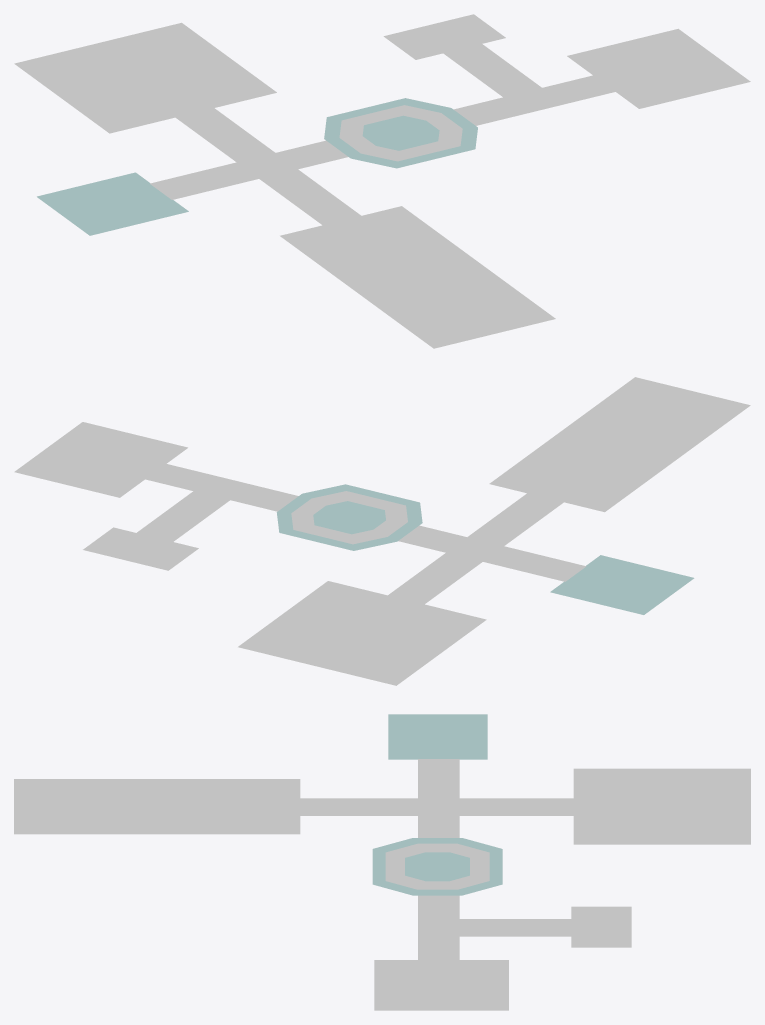
The model's file is tutorial_floors.fbx.
The picture shows the model from 3 angles, top to bottom: view 1: azimuth 30°, elevation 25°; view 2: azimuth 150°, elevation 25°; view 3: azimuth 270°, elevation 25°; orthographic projection. The views are drawn at different scales.
Visible parts, largest first — view 1: glide_room_floor, grapple_room_floor, portal_room_floor, main_floor, picture_room_floor, hallway_floor3, hallway_floor4, bedroom_floor, hallway_floor1, hallway_floor2, hallway_floor; view 2: glide_room_floor, grapple_room_floor, portal_room_floor, main_floor, picture_room_floor, hallway_floor3, hallway_floor4, bedroom_floor, hallway_floor1, hallway_floor2, hallway_floor; view 3: glide_room_floor, grapple_room_floor, portal_room_floor, main_floor, picture_room_floor, hallway_floor3, hallway_floor4, bedroom_floor, hallway_floor1, hallway_floor2, hallway_floor.
Part boxes in pixels (x1,y1,x2,y2): glide_room_floor: (280, 206, 555, 348); grapple_room_floor: (14, 22, 276, 133); portal_room_floor: (567, 28, 750, 108); main_floor: (324, 98, 477, 168); picture_room_floor: (37, 172, 188, 235); hallway_floor3: (150, 140, 347, 199); hallway_floor4: (453, 75, 615, 125); bedroom_floor: (383, 14, 505, 59); hallway_floor1: (172, 106, 275, 162); hallway_floor2: (259, 169, 361, 225); hallway_floor: (443, 43, 543, 98); glide_room_floor: (489, 377, 750, 512); grapple_room_floor: (238, 581, 486, 685); portal_room_floor: (14, 422, 187, 497); main_floor: (276, 484, 422, 550); picture_room_floor: (550, 555, 694, 614); hallway_floor3: (398, 525, 585, 581); hallway_floor4: (145, 463, 298, 511); bedroom_floor: (83, 527, 198, 570); hallway_floor1: (385, 552, 482, 606); hallway_floor2: (467, 492, 564, 546); hallway_floor: (136, 490, 231, 541); glide_room_floor: (14, 779, 300, 834); grapple_room_floor: (573, 768, 750, 844); portal_room_floor: (374, 960, 508, 1010); main_floor: (372, 838, 502, 895); picture_room_floor: (388, 714, 487, 759); hallway_floor3: (418, 759, 459, 837); hallway_floor4: (418, 895, 459, 959); bedroom_floor: (571, 906, 631, 947); hallway_floor1: (458, 798, 579, 815); hallway_floor2: (298, 798, 418, 815); hallway_floor: (457, 919, 571, 936).
Size of the model in its own units: 83.52 by 0.0918 by 87.88.
